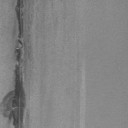slag inclusion: (2, 0, 34, 128)
